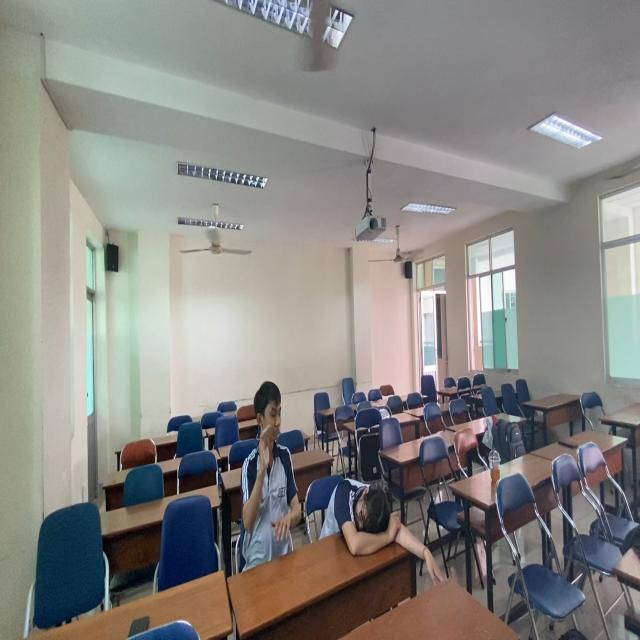raise_hand: (238, 379, 303, 568)
sleep: (321, 472, 421, 562)
